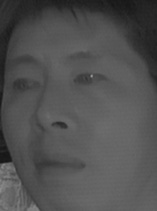eye: (72, 68, 111, 93), (10, 74, 40, 96)
mouth: (31, 148, 87, 181)
